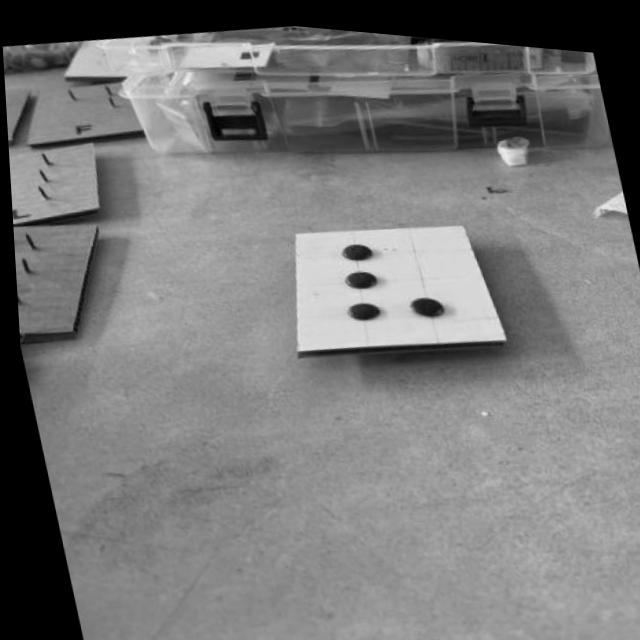braiile: (295, 218, 500, 341)
